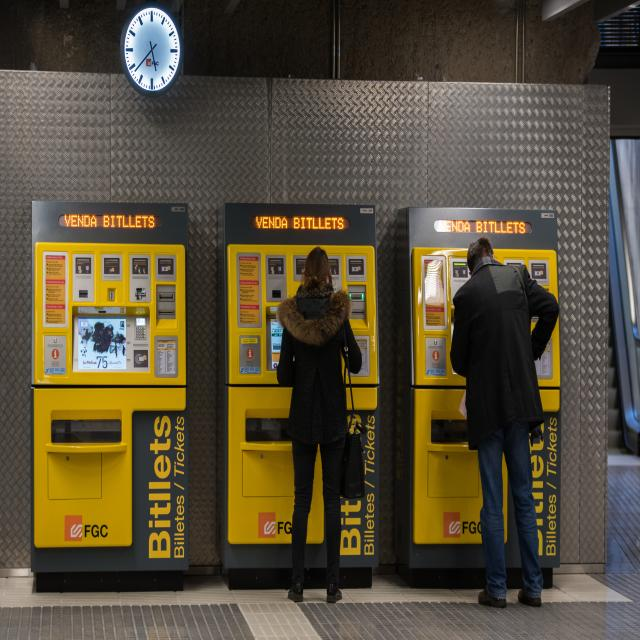tickets-maquina: (31, 202, 189, 592)
